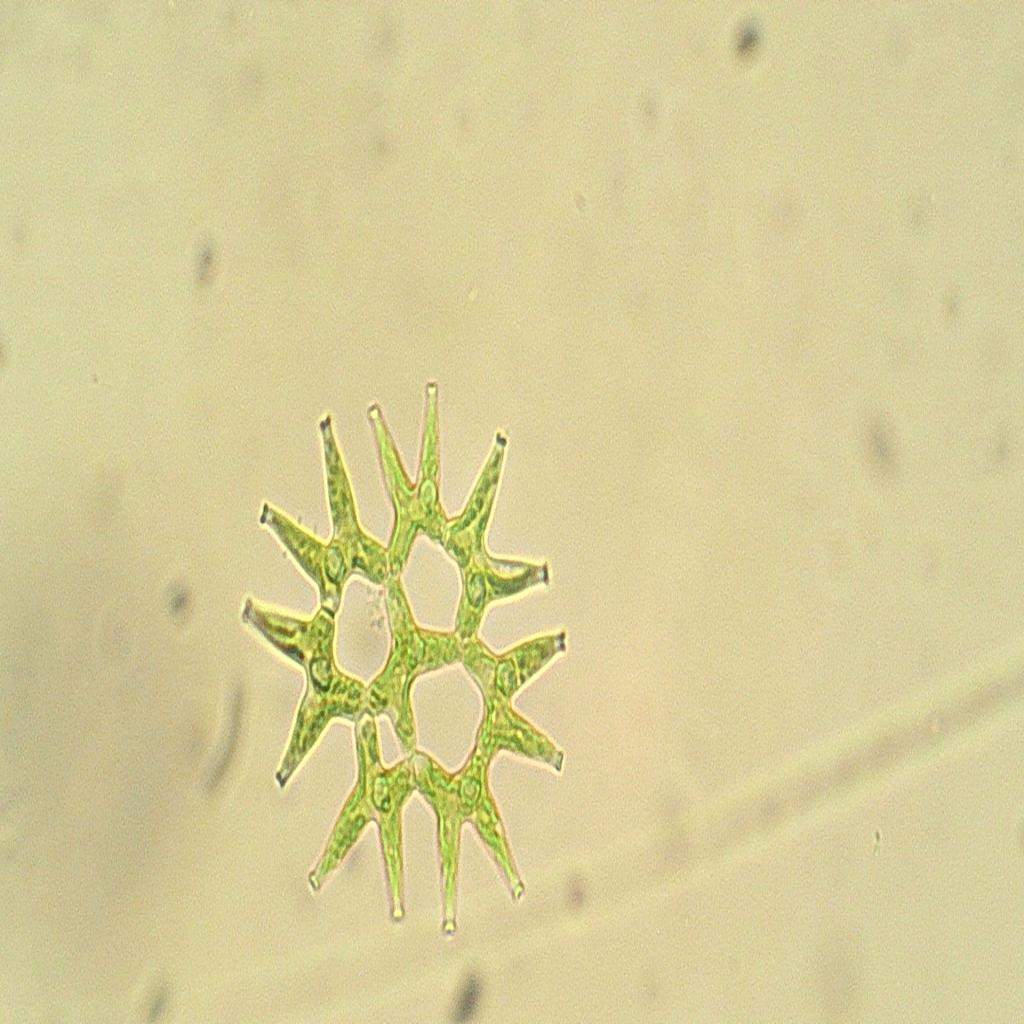Pediastrum_1T: (224, 371, 593, 956)
